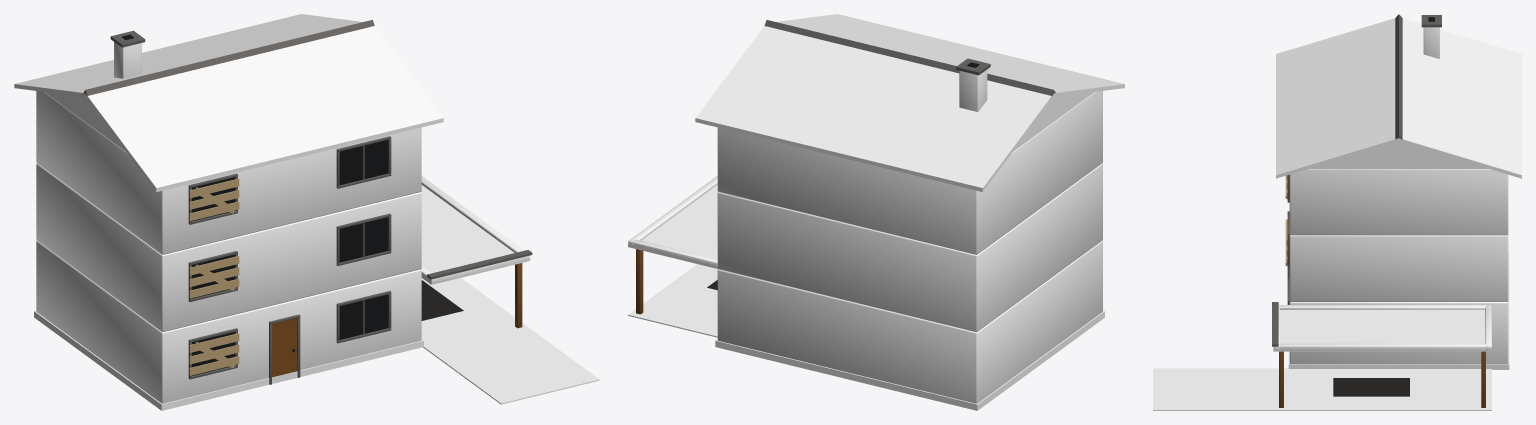
The model's file is bld_ranch_carport_3s.glb.
3 views of the same model, side by side, from view 1: azimuth 30°, elevation 25°; view 2: azimuth 150°, elevation 25°; view 3: azimuth 270°, elevation 25° (orthographic). The views are drawn at different scales.
Visible parts, largest first — view 1: rc_roof_front, rc_walls_s2, rc_walls_s3, rc_walls, rc_slab, rc_roof_back, rc_port_deck, rc_footing, rc_roof_cap, rc_win1_s2, rc_win1, rc_win1_s3 (+6 smaller); view 2: rc_roof_back, rc_walls_s2, rc_walls, rc_walls_s3, rc_roof_front, rc_slab, rc_port_deck, rc_footing, rc_roof_cap, rc_roof_gable, rc_chim, rc_port_parapet.003 (+2 smaller); view 3: rc_roof_front, rc_walls_s2, rc_walls_s3, rc_roof_back, rc_slab, rc_port_deck, rc_walls, rc_roof_gable, rc_port_parapet.003, rc_oil, rc_footing, rc_port_parapet.002 (+2 smaller).
Part boxes in pixels (x1,y1,x2,y2): rc_roof_front: (85,26,443,191); rc_walls_s2: (36,163,421,332); rc_walls_s3: (36,91,421,254); rc_walls: (36,241,421,403); rc_slab: (421,278,599,404); rc_roof_back: (14,14,362,97); rc_port_deck: (421,185,530,284); rc_footing: (34,311,423,410); rc_roof_cap: (83,20,374,95); rc_win1_s2: (339,217,388,262); rc_win1: (339,294,388,339); rc_win1_s3: (339,140,388,185); rc_roof_back: (695,26,1053,191); rc_walls_s2: (717,163,1102,332); rc_walls: (717,241,1102,403); rc_walls_s3: (717,91,1102,254); rc_roof_front: (777,14,1124,97); rc_slab: (628,264,717,337); rc_port_deck: (628,185,717,268); rc_footing: (715,311,1104,410); rc_roof_cap: (764,20,1055,96); rc_roof_gable: (1013,92,1094,151); rc_chim: (959,69,987,111); rc_port_parapet.003: (629,176,717,245); rc_roof_front: (1276,18,1398,178); rc_walls_s2: (1289,234,1508,301); rc_walls_s3: (1289,169,1508,235); rc_roof_back: (1399,18,1521,178); rc_slab: (1153,368,1491,410); rc_port_deck: (1273,310,1491,351); rc_walls: (1289,301,1508,363); rc_roof_gable: (1309,141,1488,168); rc_port_parapet.003: (1274,343,1490,350); rc_oil: (1333,378,1409,396); rc_footing: (1288,253,1509,369); rc_port_parapet.002: (1279,305,1485,309).
Size of the model in its own units: 13.65 by 10.53 by 13.5.
